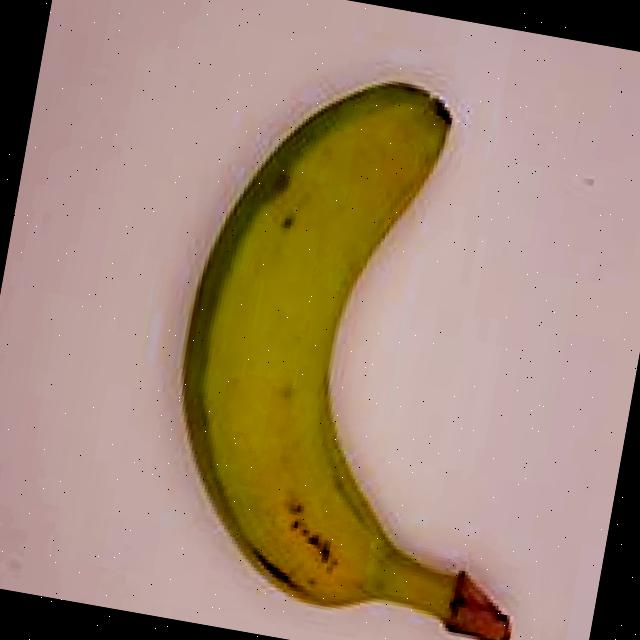Unripe: (87, 0, 636, 640)
